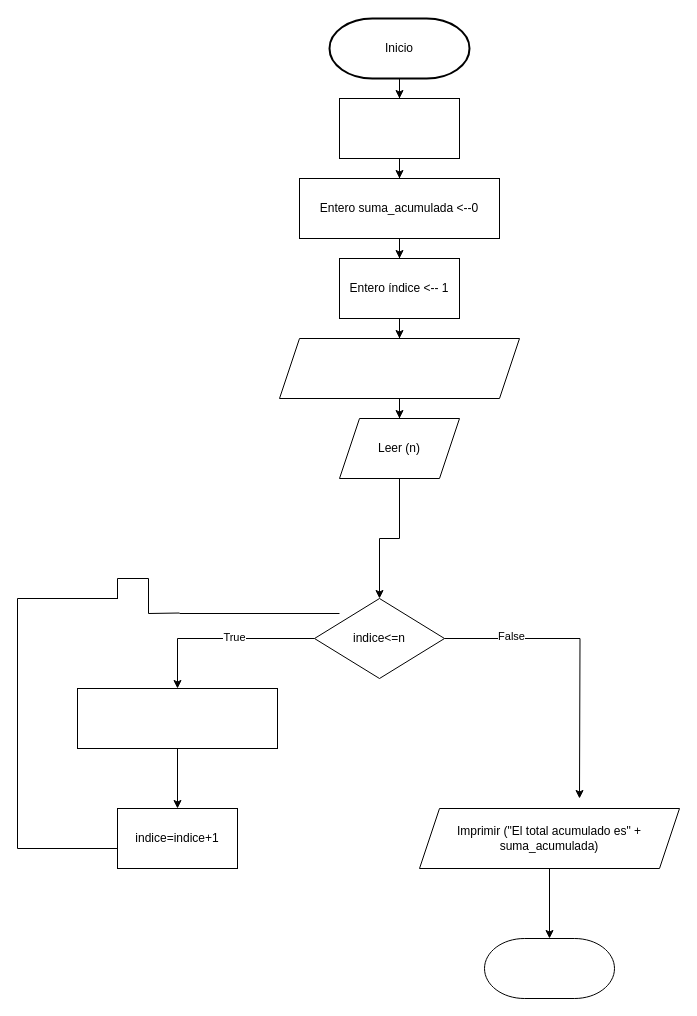
Image size: 697x1016. Some labels were removed from this diagram. The shapes that lost their labels are listed below. From the top down, each one's centre as x and y in pixels, then its label:
(399,128): Entero n
(399,368): Imprimir ("Dime un número")
(177,718): suma_acumulada = suma_acumulada + indice
(549,968): Fin
